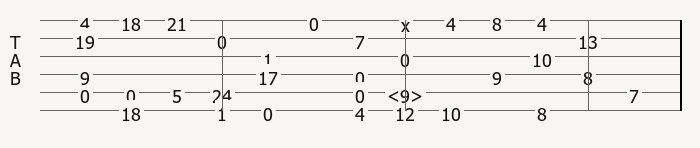0: (80, 84, 94, 101), (126, 84, 140, 101), (217, 30, 231, 47), (263, 102, 277, 119), (309, 12, 323, 29), (355, 66, 369, 83), (355, 84, 369, 101), (400, 48, 414, 65)
1: (217, 102, 231, 119), (263, 48, 277, 65)
10: (441, 102, 465, 119), (532, 48, 556, 65)
12: (395, 102, 419, 119)
13: (578, 30, 602, 47)
17: (258, 66, 282, 83)
18: (121, 12, 145, 29), (121, 102, 145, 119)
19: (75, 30, 99, 47)
21: (167, 12, 191, 29)
24: (212, 84, 236, 101)
4: (80, 12, 94, 29), (355, 102, 369, 119), (446, 12, 460, 29), (537, 12, 551, 29)
5: (172, 84, 186, 101)
7: (355, 30, 369, 47), (629, 84, 643, 101)
8: (492, 12, 506, 29), (537, 102, 551, 119), (583, 66, 597, 83)
9: (80, 66, 94, 83), (492, 66, 506, 83)
harmonic: (387, 84, 427, 101)
x: (401, 13, 414, 27)
